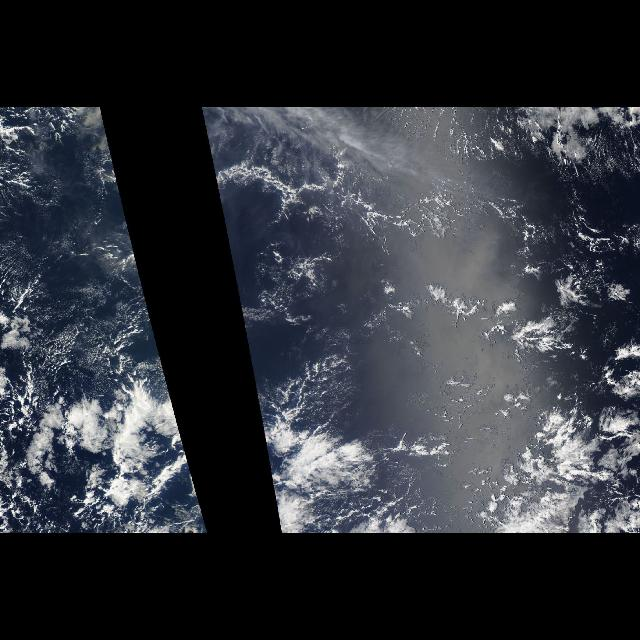Flower: (31, 372, 207, 522), (252, 372, 334, 522)
Gravel: (230, 143, 524, 424)
